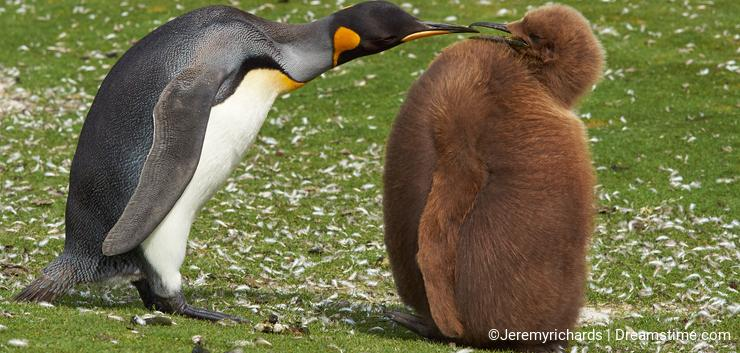king: (40, 0, 481, 314)
